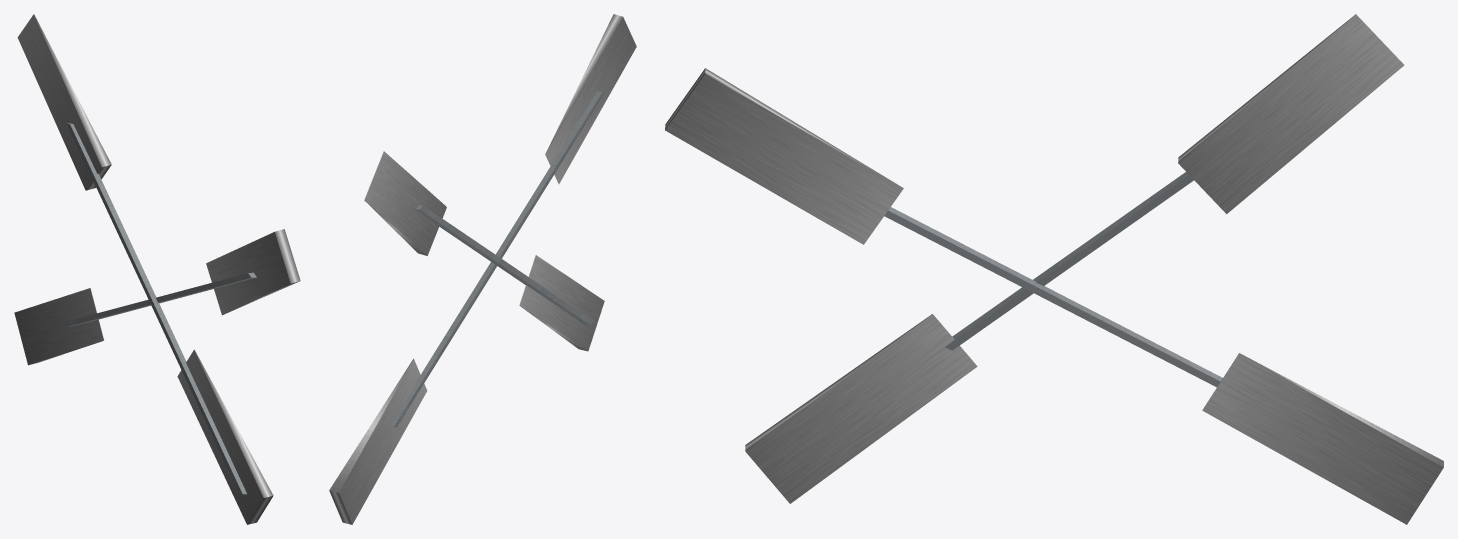
File: Aspas.obj
3 views of the same model, side by side, from view 1: azimuth 30°, elevation 25°; view 2: azimuth 150°, elevation 25°; view 3: azimuth 270°, elevation 25° (orthographic). The views are drawn at different scales.
Visible parts, largest first — view 1: pasted__polySurface22 group248; view 2: pasted__polySurface22 group248; view 3: pasted__polySurface22 group248.
Part boxes in pixels (box(x1,y1,x2,y2)): pasted__polySurface22 group248: box(14, 14, 300, 524); pasted__polySurface22 group248: box(329, 14, 636, 524); pasted__polySurface22 group248: box(665, 14, 1443, 524).
Bounding box in the file's own units: 2.11 × 27.78 × 39.55.
